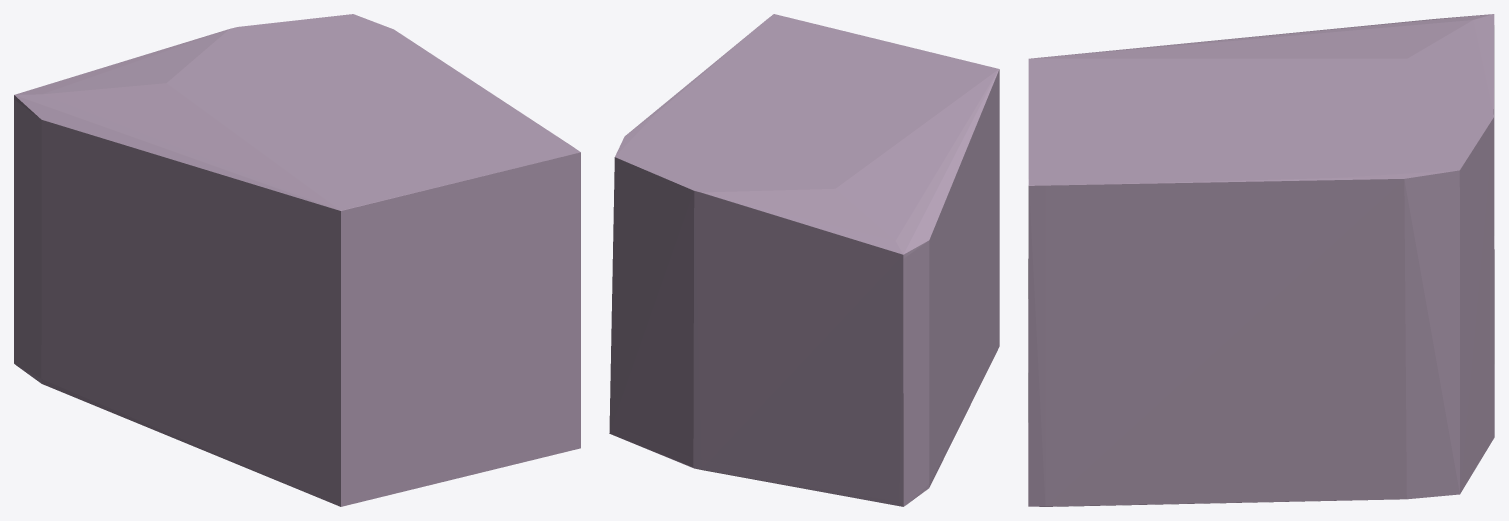
File: fixture_cabinet_b01.glb
The picture shows the model from 3 angles, left to right: view 1: azimuth 30°, elevation 25°; view 2: azimuth 150°, elevation 25°; view 3: azimuth 270°, elevation 25°; orthographic projection. The views are drawn at different scales.
Visible parts, largest first — view 1: geometry_0; view 2: geometry_0; view 3: geometry_0.
Part boxes in pixels (x1,y1,x2,y2): geometry_0: (14,14,580,506); geometry_0: (609,14,999,506); geometry_0: (1028,14,1494,506).
Bounding box in the file's own units: 0.4546 × 0.3647 × 0.4799.
